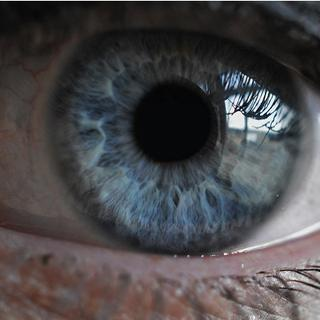pupil: (131, 84, 211, 163)
